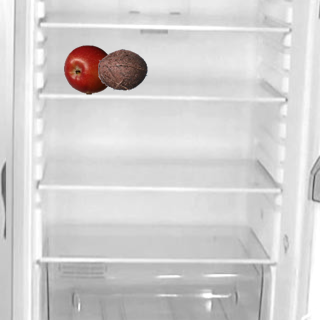Apple Braeburn: (63, 44, 113, 94)
Cocos: (97, 44, 147, 94)
